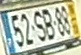2: (19, 12, 34, 46)
5: (9, 14, 24, 48)
8: (53, 6, 65, 36), (60, 4, 71, 36)
B: (40, 8, 55, 41)
S: (32, 9, 46, 42)
